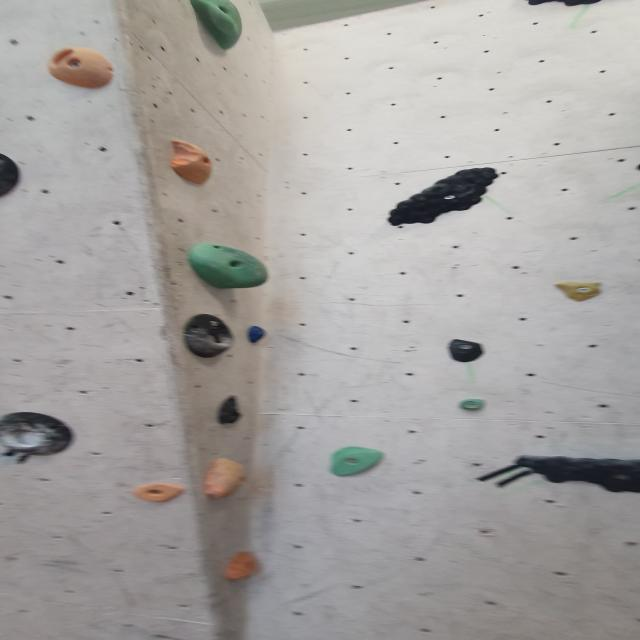Crimp: (550, 276, 608, 303), (130, 482, 190, 506), (222, 550, 264, 583), (244, 323, 268, 344), (458, 398, 488, 412)
Jug: (378, 162, 506, 236), (508, 444, 640, 494), (184, 0, 250, 53)
Pinch: (162, 137, 217, 187), (199, 458, 252, 501)
Pocket: (0, 411, 84, 461), (43, 44, 120, 93), (181, 312, 240, 359), (0, 147, 30, 207)
Sloper: (184, 243, 274, 294)
